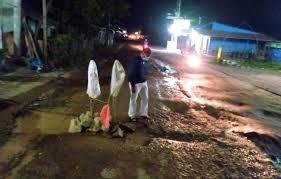Pothole: (99, 104, 215, 162), (8, 93, 102, 137), (143, 85, 232, 121), (234, 116, 281, 179), (215, 85, 281, 127)
